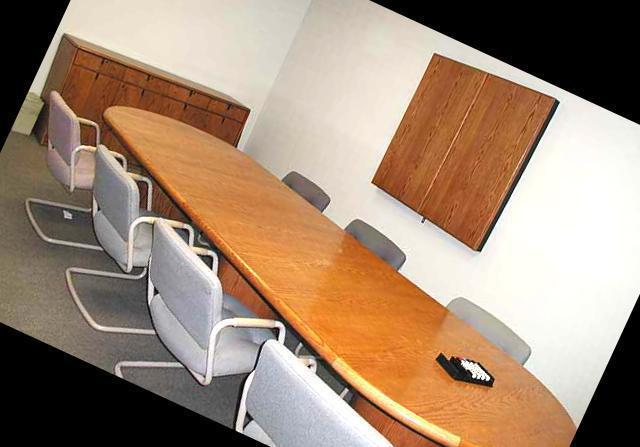Armario: (31, 39, 252, 213)
